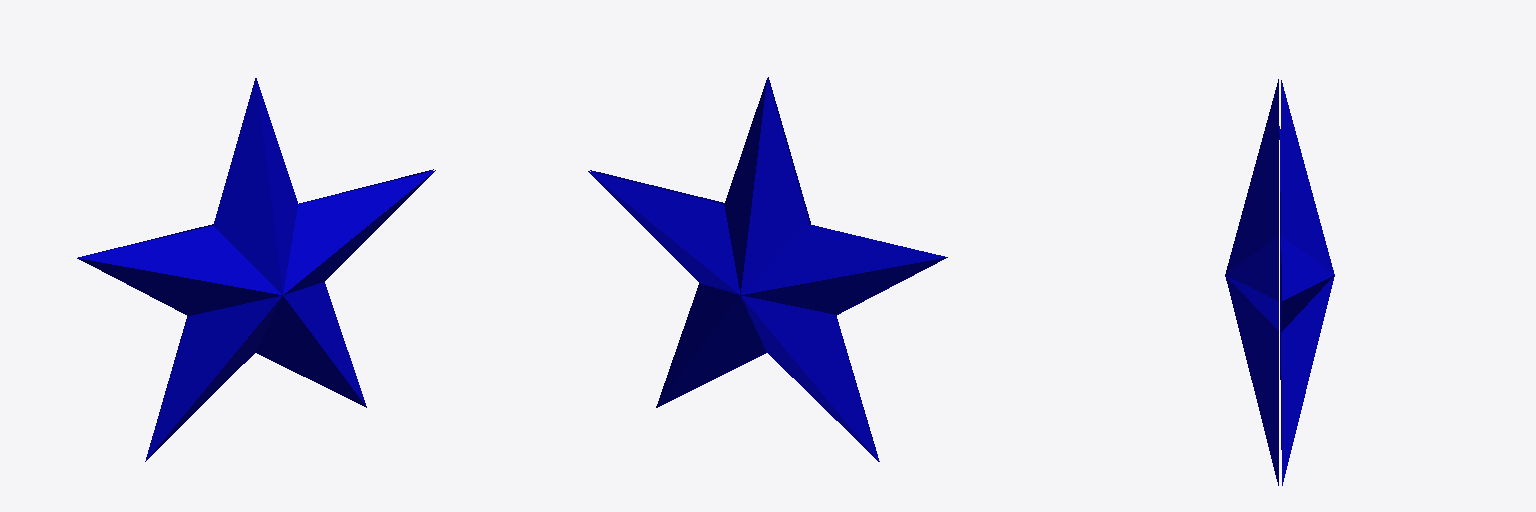
File: star.obj
3 renders of one model, left to right at view 1: azimuth 30°, elevation 25°; view 2: azimuth 150°, elevation 25°; view 3: azimuth 270°, elevation 25°, orthographic.
Parts seen in each view (by area): view 1: Circle.001; view 2: Circle, Circle.001; view 3: Circle, Circle.001.
Boxes of the visible parts, <box> form: Circle.001: <box>77,78,435,461</box>; Circle: <box>588,78,947,461</box>; Circle.001: <box>590,77,944,461</box>; Circle: <box>1279,80,1334,485</box>; Circle.001: <box>1225,79,1278,485</box>.
Size of the model in its own units: 2.93 by 2.78 by 0.7718.